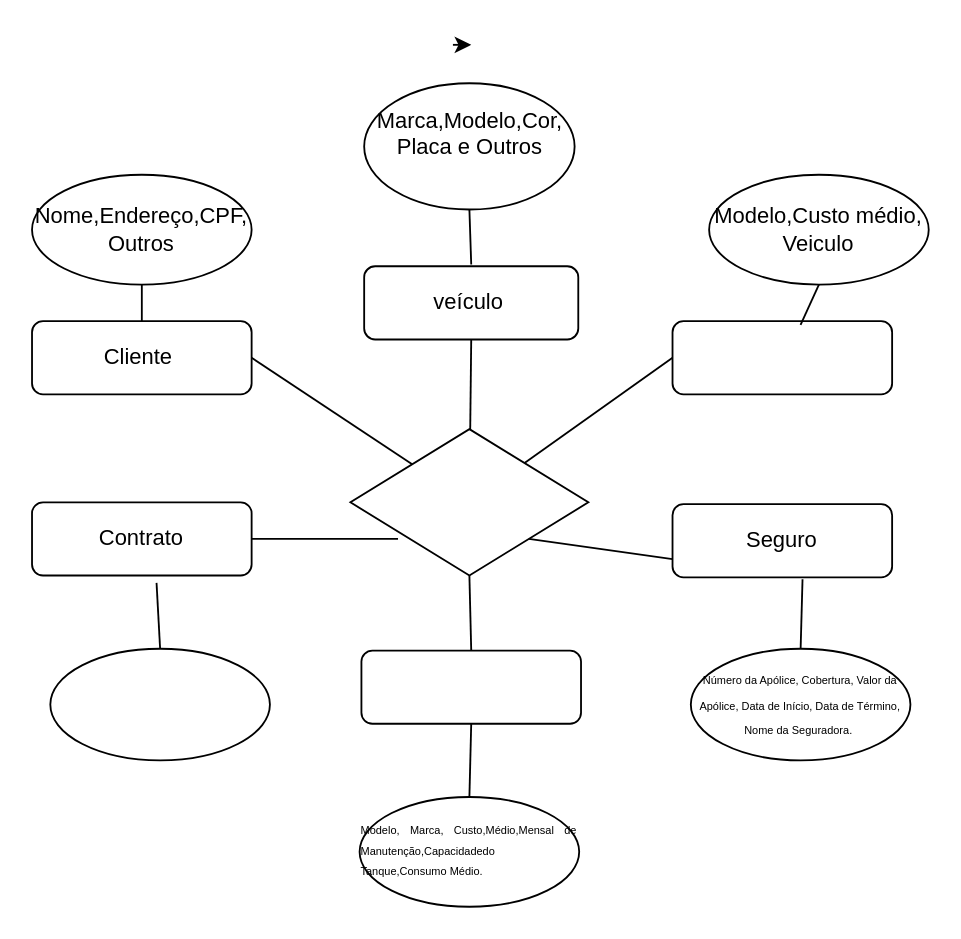
Some shapes in this 961 by 939 pixel diagram are drawn without their labels. Each missing label, with the centre of its shape:
"Data,Preço,Veículo, Valor do seguro Cliente" belongs at [159,703].
"Locadora de Automóveis" belongs at [468,501].
"Manutenção" belongs at [781,356].
"Modelo do Veículo" belongs at [470,686].
